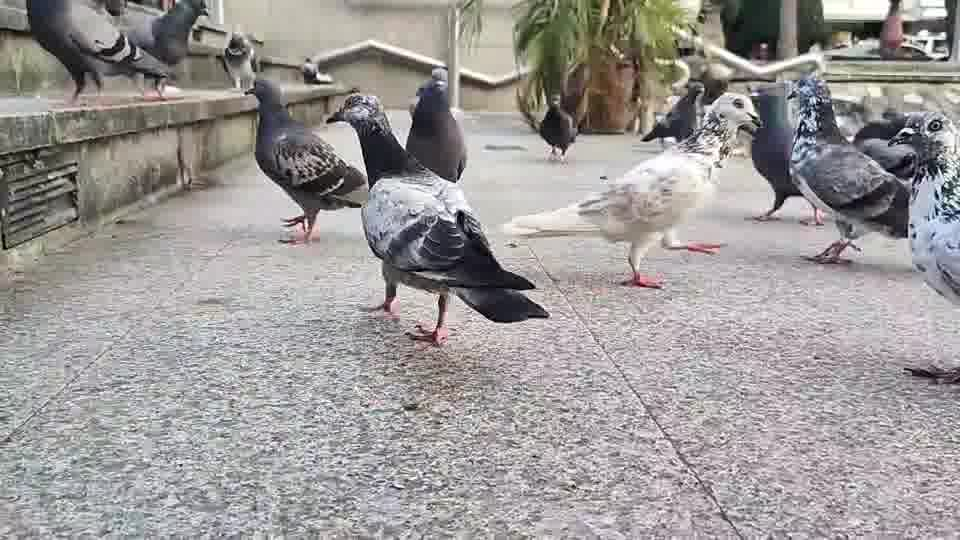Pigeon: (324, 91, 550, 346), (502, 91, 759, 289), (784, 73, 910, 264), (243, 77, 369, 243), (25, 0, 171, 103), (741, 80, 831, 225), (108, 0, 208, 97), (404, 66, 467, 183), (640, 80, 705, 146), (221, 31, 263, 94), (538, 102, 577, 164), (300, 58, 333, 84)
